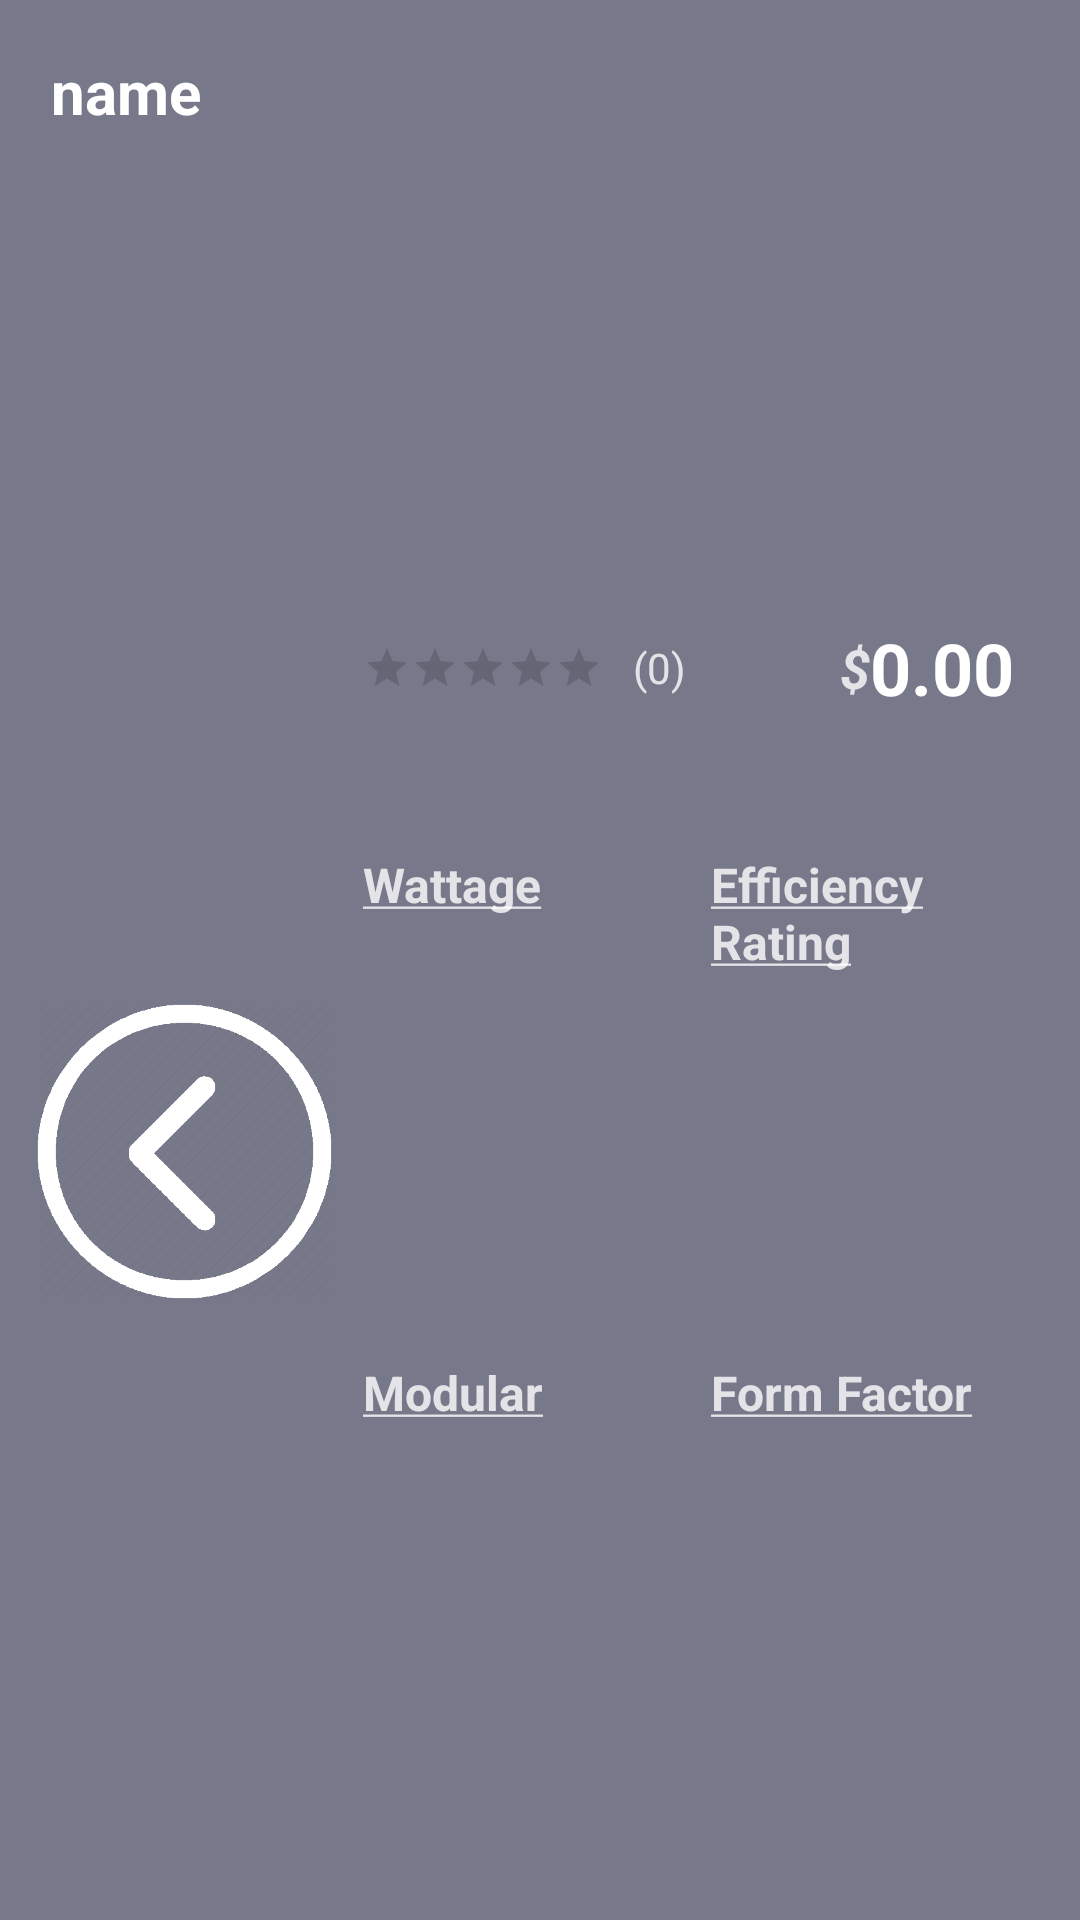

Where icons sit on this 1080x1920 app screen, as (x1=x1, y1=y1, x2=x2, y2=y2):
back: (x1=38, y1=1005, x2=331, y2=1298)
